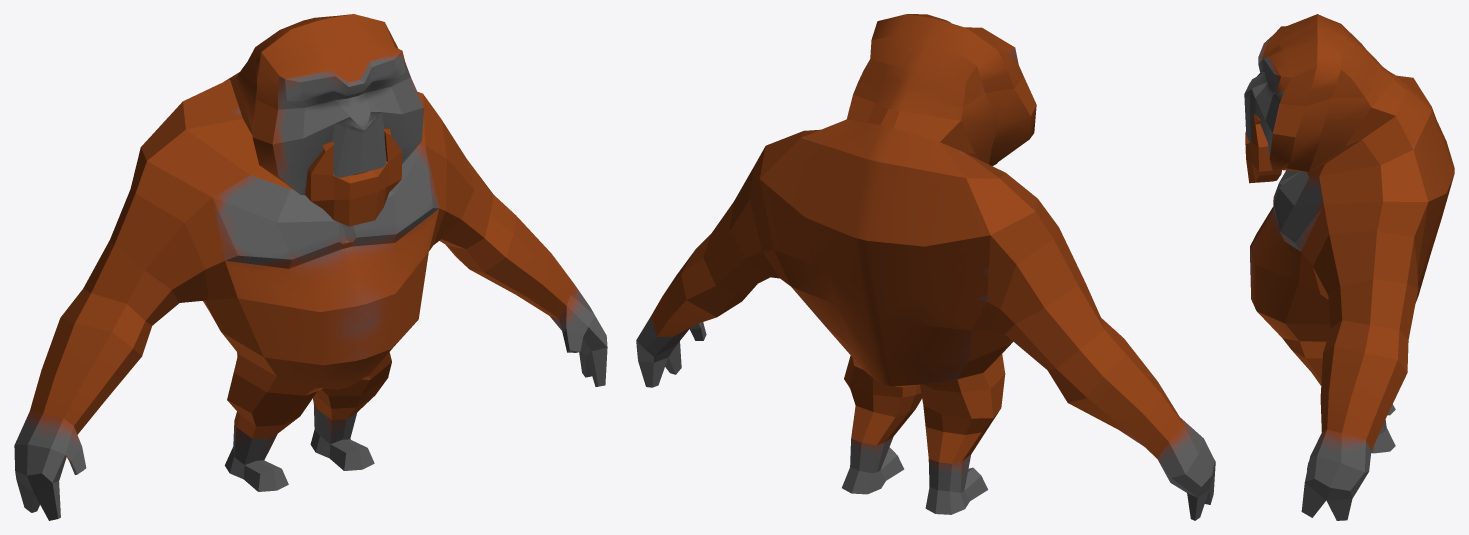
Rendered from Orangutang.fbx.
3 views of the same model, side by side, from view 1: azimuth 30°, elevation 25°; view 2: azimuth 150°, elevation 25°; view 3: azimuth 270°, elevation 25° (orthographic). The views are drawn at different scales.
Parts seen in each view (by area): view 1: Orangutanga; view 2: Orangutanga; view 3: Orangutanga.
Boxes of the visible parts, x1,y1,x2,y2 form: Orangutanga: (14, 14, 607, 520); Orangutanga: (636, 14, 1215, 520); Orangutanga: (1244, 14, 1454, 520).
Bounding box in the file's own units: 1318 × 1009 × 478.
Materials: 1 (1 with a texture image).
